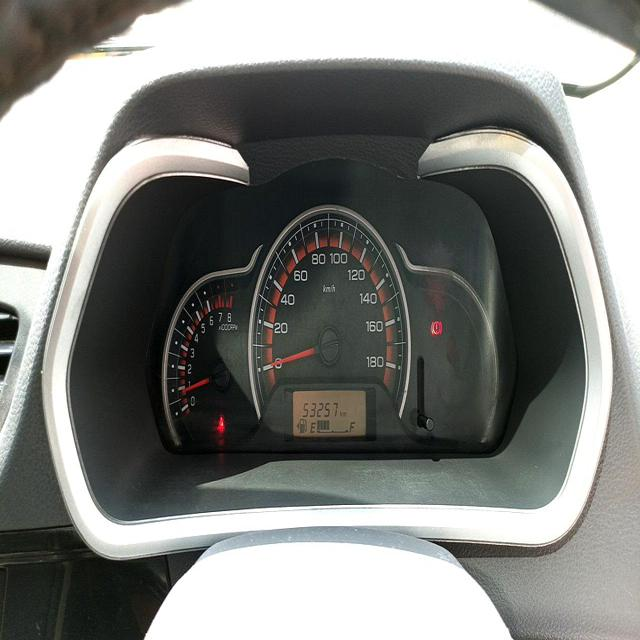odometer: (301, 398, 340, 418)
